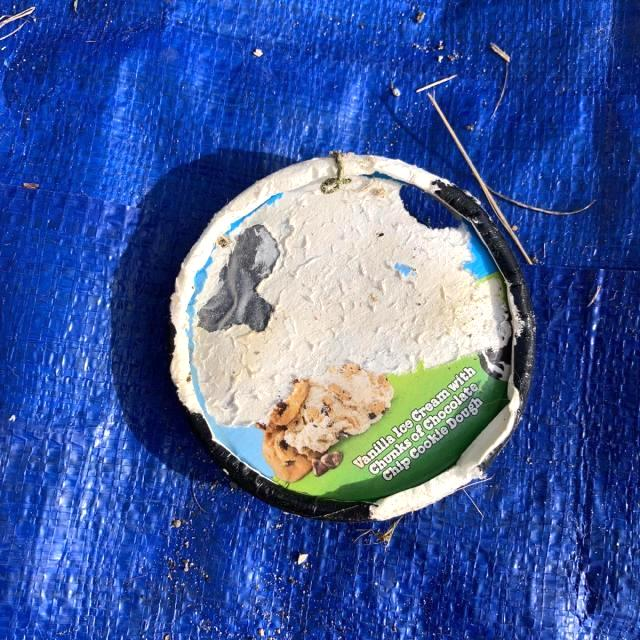Paper: (164, 149, 538, 525)
